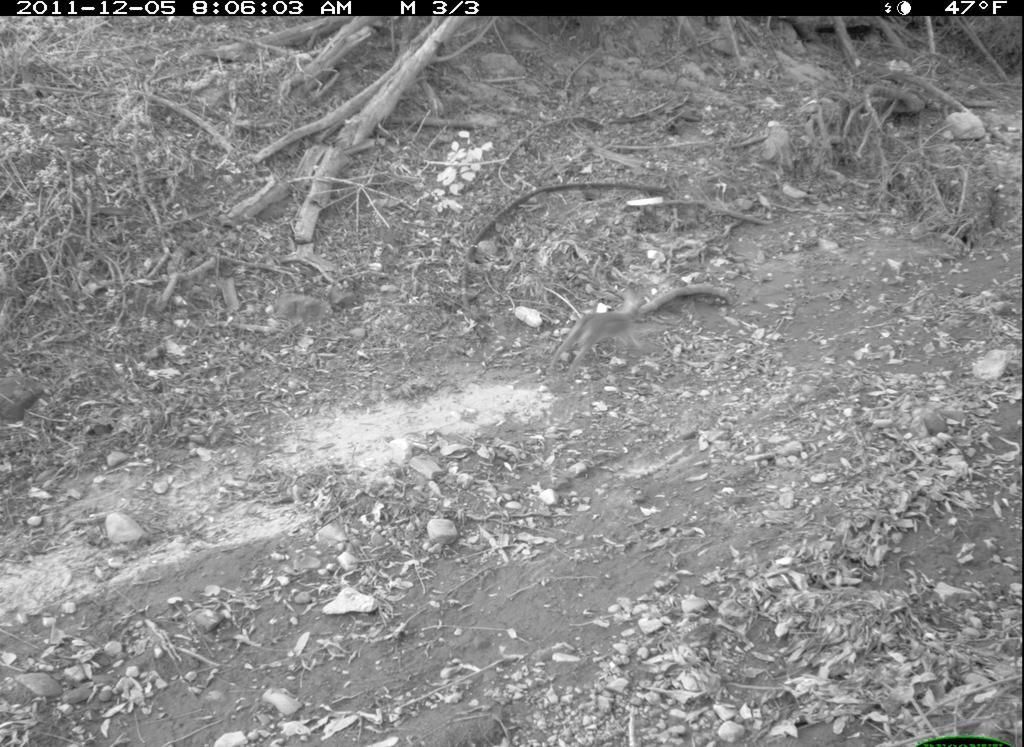rabbit: (529, 251, 664, 401)
